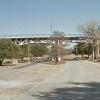Bridge: (3, 23, 94, 51)
